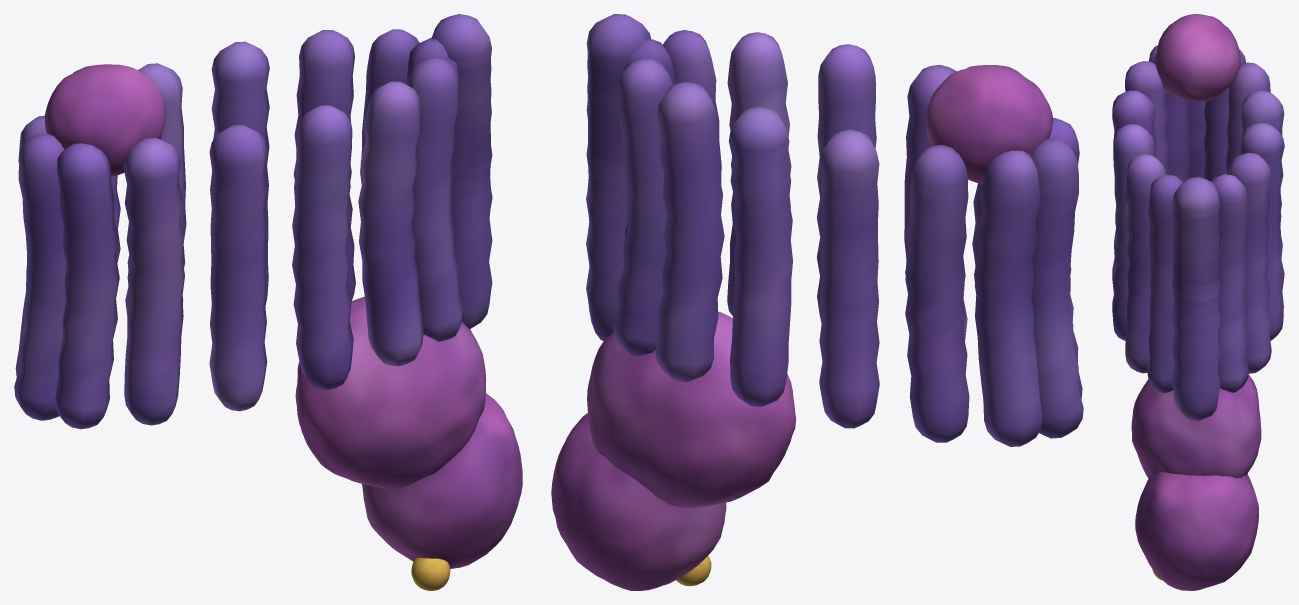
The model's file is etc-complex-1.glb.
3 views of the same model, side by side, from view 1: azimuth 30°, elevation 25°; view 2: azimuth 150°, elevation 25°; view 3: azimuth 270°, elevation 25° (orthographic). The views are drawn at different scales.
Parts seen in each view (by area): view 1: etc-complex-1-transmembrane, etc-complex-1-lobes, etc-complex-1-cofactor; view 2: etc-complex-1-transmembrane, etc-complex-1-lobes; view 3: etc-complex-1-transmembrane, etc-complex-1-lobes.
Part boxes in pixels (x1,y1,x2,y2): etc-complex-1-transmembrane: [14, 14, 492, 429]; etc-complex-1-lobes: [44, 64, 522, 568]; etc-complex-1-cofactor: [411, 557, 450, 590]; etc-complex-1-transmembrane: [586, 14, 1083, 446]; etc-complex-1-lobes: [551, 65, 1053, 590]; etc-complex-1-transmembrane: [1112, 45, 1284, 420]; etc-complex-1-lobes: [1131, 14, 1261, 590].
Size of what is drawn, in the model's own units: 2.03 by 2.27 by 0.7974.
